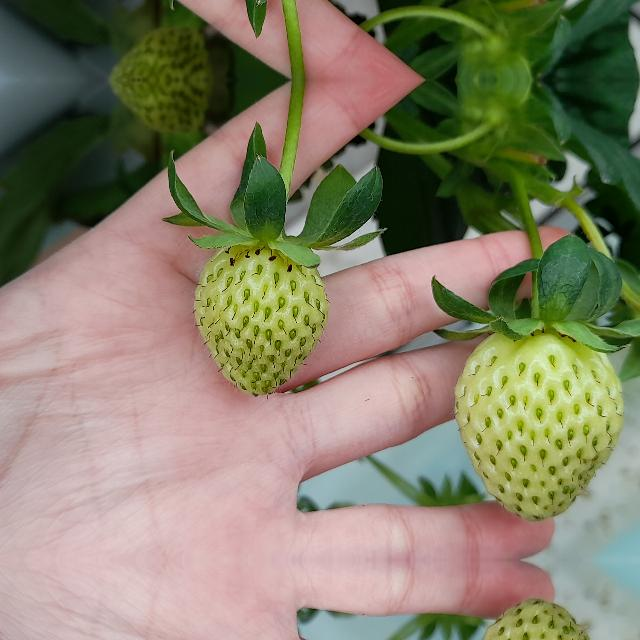Health_25: (456, 318, 626, 518), (194, 244, 328, 396)
